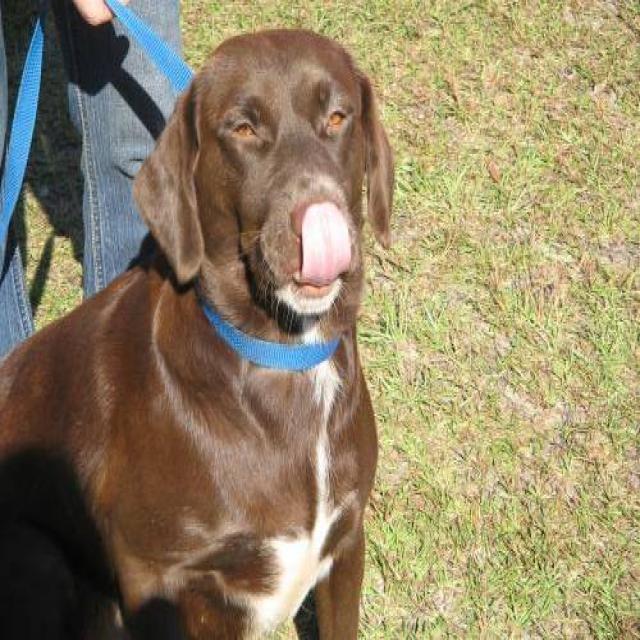dog: (0, 26, 394, 638)
